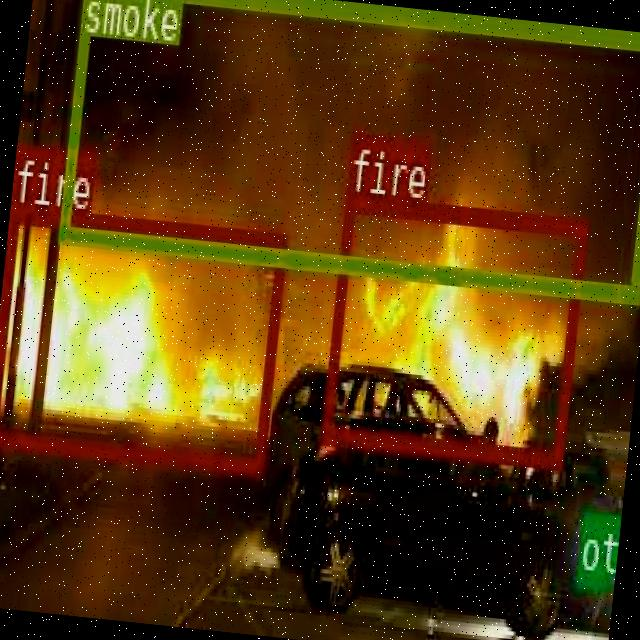fire: (0, 203, 287, 472), (318, 190, 587, 464)
smoke: (55, 0, 640, 300)
